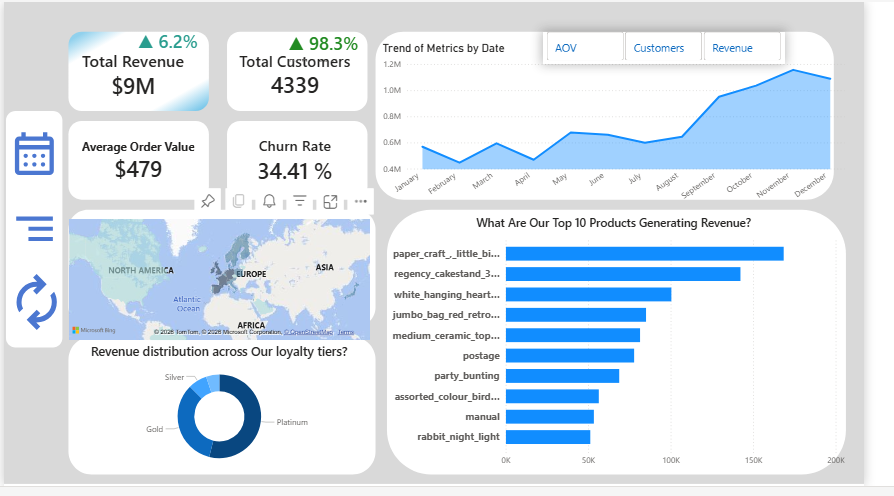

This screenshot's page, from the dashboard's own definition file:
{"tool":"powerbi","page":{"name":"Overview Page","canvas":[1280,720],"ordinal":0},"visuals":[{"type":"cardVisual","fields":{"Data":["New_cleaned_online_retail2.Total Revenue"]},"box":[84.7,43.9,214.9,128.6],"z":0},{"type":"cardVisual","fields":{"Data":["New_cleaned_online_retail2.AOV"]},"box":[84.7,172.5,229,128.6],"z":1000},{"type":"cardVisual","fields":{"Data":["New_cleaned_online_retail2.Total Customers"]},"box":[321.6,43.9,224.3,127.1],"z":2000},{"type":"cardVisual","fields":{"Data":["New_cleaned_online_retail2.Churn Rate %"]},"box":[321.6,172.5,224.3,127.1],"z":3000},{"type":"filledMap","fields":{"Category":["New_cleaned_online_retail2.Country"]},"box":[91.5,317.6,459.4,190.2],"z":4000},{"type":"areaChart","fields":{"Category":["Calender.Date.Variation.Datumhiërarchie.Jaar","Calender.Date.Variation.Datumhiërarchie.Kwartaal","Calender.Date.Variation.Datumhiërarchie.Maand","Calender.Date.Variation.Datumhiërarchie.Dag"],"Y":["New_cleaned_online_retail2.Dynamic Metric"]},"box":[558.4,59.6,698,255.7],"z":5000},{"type":"advancedSlicerVisual","fields":{"Values":["Metric_Toggle.Select Metric"]},"box":[802.3,44.6,360.2,48.1],"z":6000},{"type":"donutChart","title":"Revenue distribution across Our  loyalty tiers?","fields":{"Category":["Final_Churn_Predictions1.Customer_Segment"],"Y":["New_cleaned_online_retail2.Total Revenue"]},"box":[95.7,508.2,450.2,192.9],"z":7000},{"type":"clusteredBarChart","title":"What Are Our Top 10 Products Generating Revenue?","fields":{"Category":["New_cleaned_online_retail2.Description"],"Y":["New_cleaned_online_retail2.Total Revenue"]},"box":[558.1,315.8,698.1,384],"z":8000},{"type":"cardVisual","fields":{"Data":["New_cleaned_online_retail2.Growth_Label"]},"box":[160.8,20.4,167.6,72.5],"z":9000},{"type":"cardVisual","fields":{"Data":["New_cleaned_online_retail2.RCR_Label"]},"box":[394,34,165.3,72.5],"z":10000},{"type":"image","box":[6.8,169.8,77,111],"z":11000},{"type":"image","box":[0,301.2,90.6,72.5],"z":12000},{"type":"image","box":[0,400.8,97.4,90.6],"z":19000}]}

Visuals, with their boxes in screenshot pixels (x1, y1, x2, y2), scaled from the page's 1280x720 canvas onto the 894x496 screenshot:
cardVisual - New_cleaned_online_retail2.Total Revenue: [59, 30, 209, 119]
cardVisual - New_cleaned_online_retail2.AOV: [59, 119, 219, 207]
cardVisual - New_cleaned_online_retail2.Total Customers: [225, 30, 381, 118]
cardVisual - New_cleaned_online_retail2.Churn Rate %: [225, 119, 381, 206]
filledMap - New_cleaned_online_retail2.Country: [64, 219, 385, 350]
areaChart - Calender.Date.Variation.Datumhiërarchie.Jaar x Calender.Date.Variation.Datumhiërarchie.Kwartaal: [390, 41, 878, 217]
advancedSlicerVisual - Metric_Toggle.Select Metric: [560, 31, 812, 64]
"Revenue distribution across Our  loyalty tiers?" donutChart: [67, 350, 381, 483]
"What Are Our Top 10 Products Generating Revenue?" clusteredBarChart: [390, 218, 877, 482]
cardVisual - New_cleaned_online_retail2.Growth_Label: [112, 14, 229, 64]
cardVisual - New_cleaned_online_retail2.RCR_Label: [275, 23, 391, 73]
image: [5, 117, 59, 193]
image: [0, 207, 63, 257]
image: [0, 276, 68, 339]
